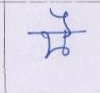ai_matra: (50, 8, 74, 31)
